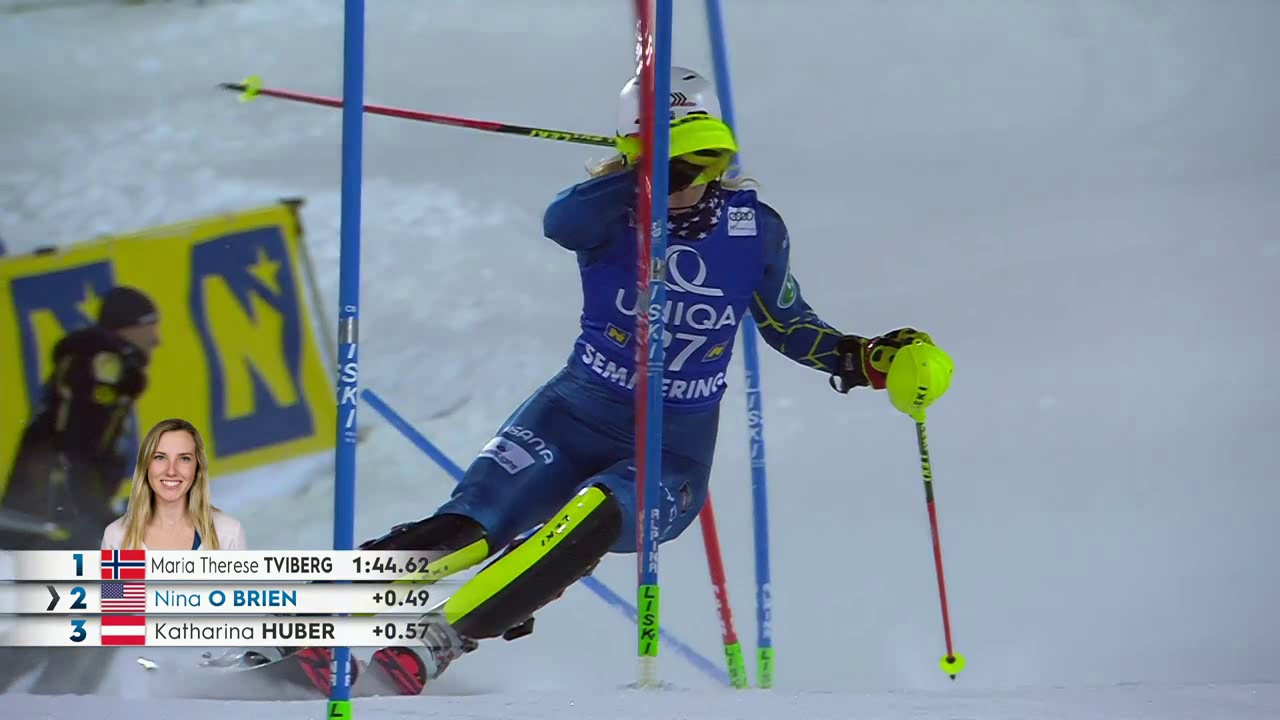raiffeisen: (34, 244, 348, 453)
